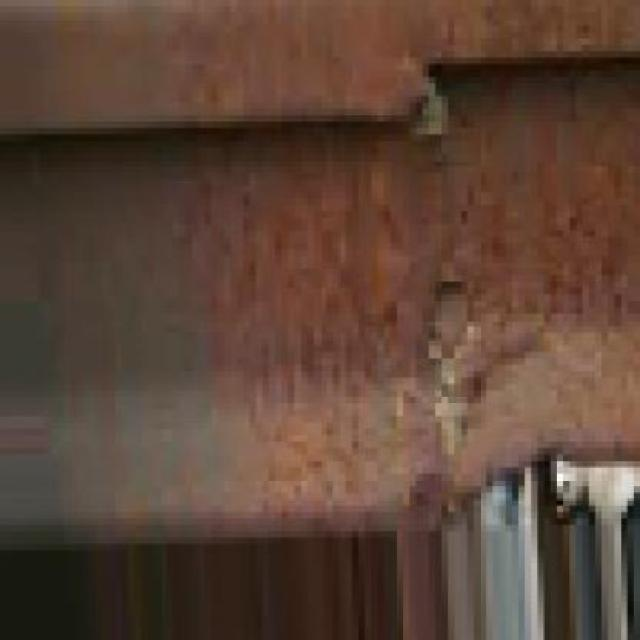defective: (10, 2, 640, 572)
